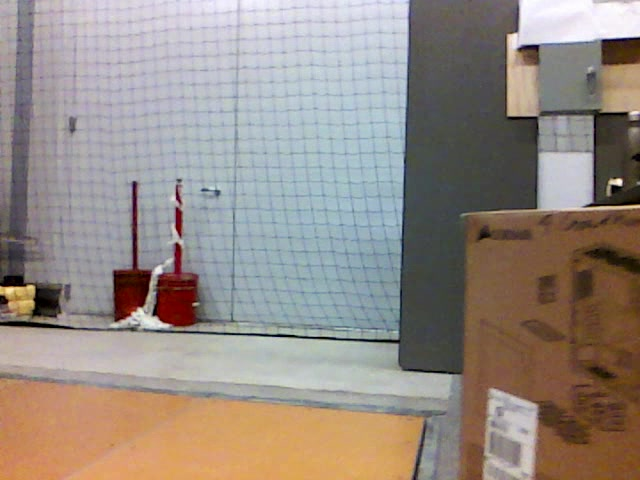box: (463, 208, 640, 477)
